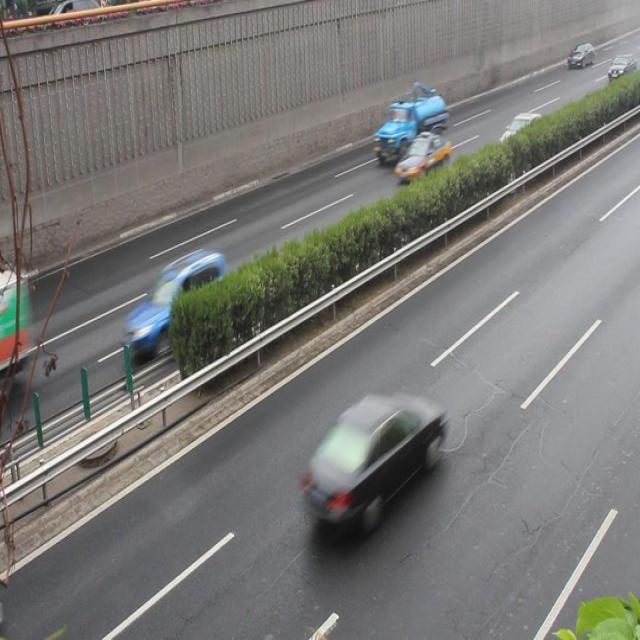bus: (374, 91, 445, 160)
car: (298, 394, 445, 525), (123, 251, 225, 350), (393, 133, 450, 183), (496, 111, 544, 160)
